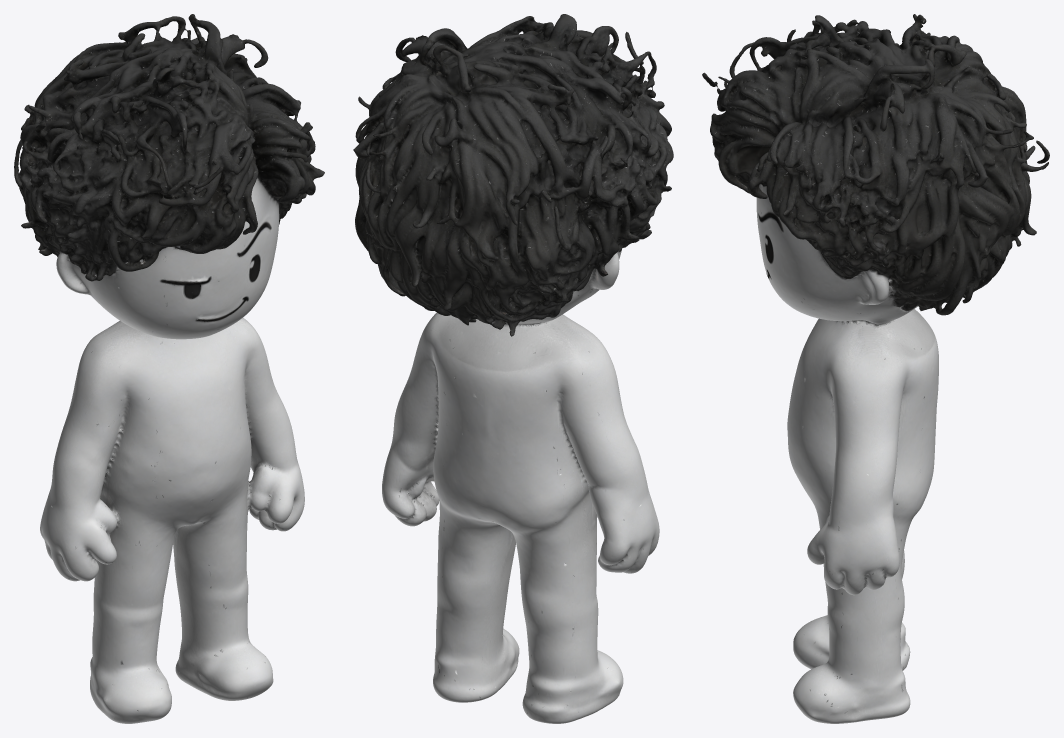
File: boyChar_smirk.glb
The picture shows the model from 3 angles, left to right: view 1: azimuth 30°, elevation 25°; view 2: azimuth 150°, elevation 25°; view 3: azimuth 270°, elevation 25°; orthographic projection. The views are drawn at different scales.
Parts seen in each view (by area): view 1: Char_Boy_Smirk; view 2: Char_Boy_Smirk; view 3: Char_Boy_Smirk.
Part boxes in pixels (<box>): Char_Boy_Smirk: <box>14,14,324,723</box>; Char_Boy_Smirk: <box>353,14,673,723</box>; Char_Boy_Smirk: <box>702,14,1049,723</box>.
Bounding box in the file's own units: 0.5167 × 1.2 × 0.5729.
Materials: 1 (1 with a texture image).
